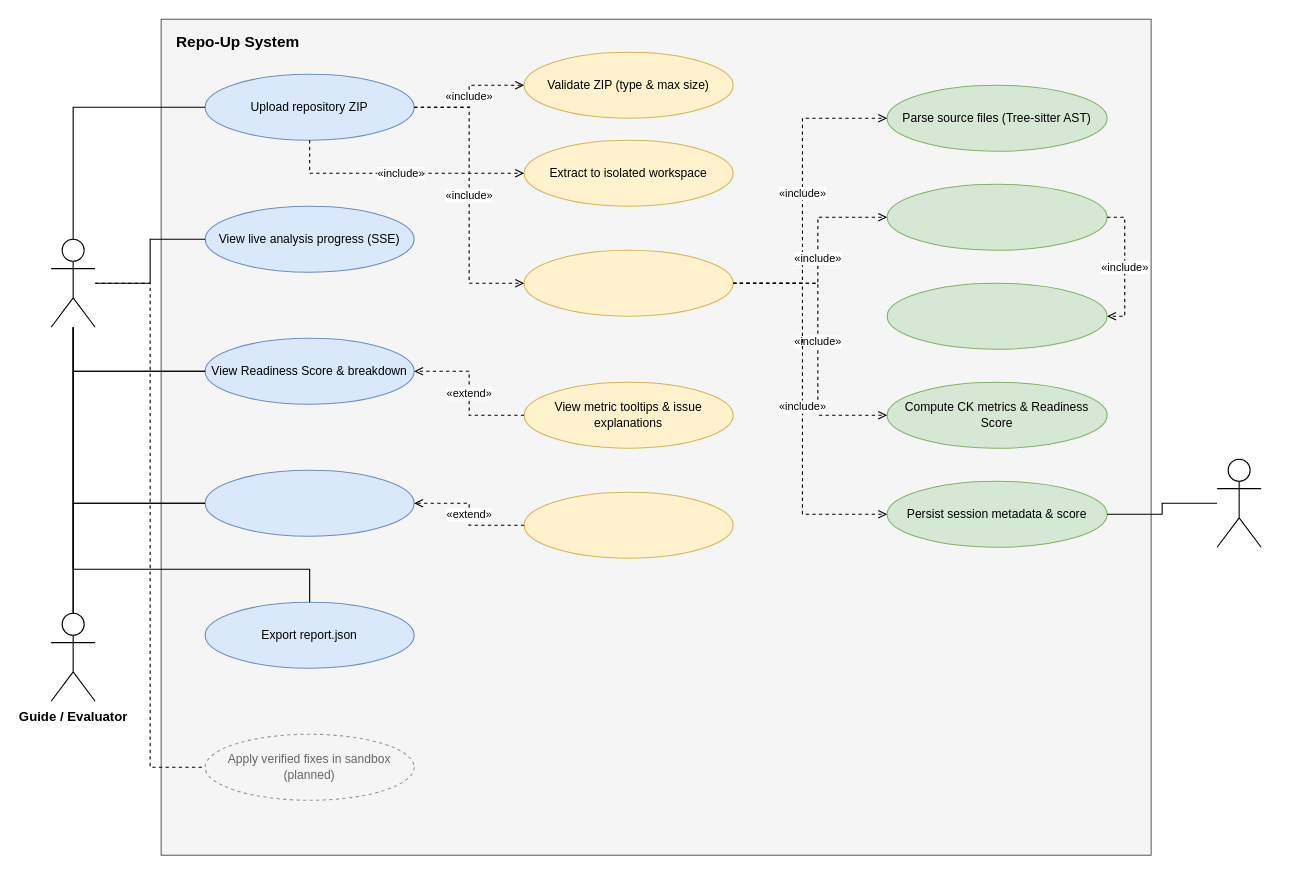
The diagram is 1296 pixels wide and 875 high, and some of its shapes have lost their labels. Each missing label, with the centre of its shape:
"Analyze repository" goes at pixel 628 282.
"Build dependency graph" goes at pixel 996 216.
"Detect circular dependencies (Tarjan SCC)" goes at pixel 996 315.
"Developer" goes at pixel 72 282.
"Explore interactive dependency graph" goes at pixel 309 502.
"PostgreSQL" goes at pixel 1238 502.
"Search file & highlight dependencies" goes at pixel 628 524.
